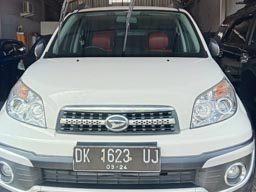plat: (75, 147, 160, 164)
